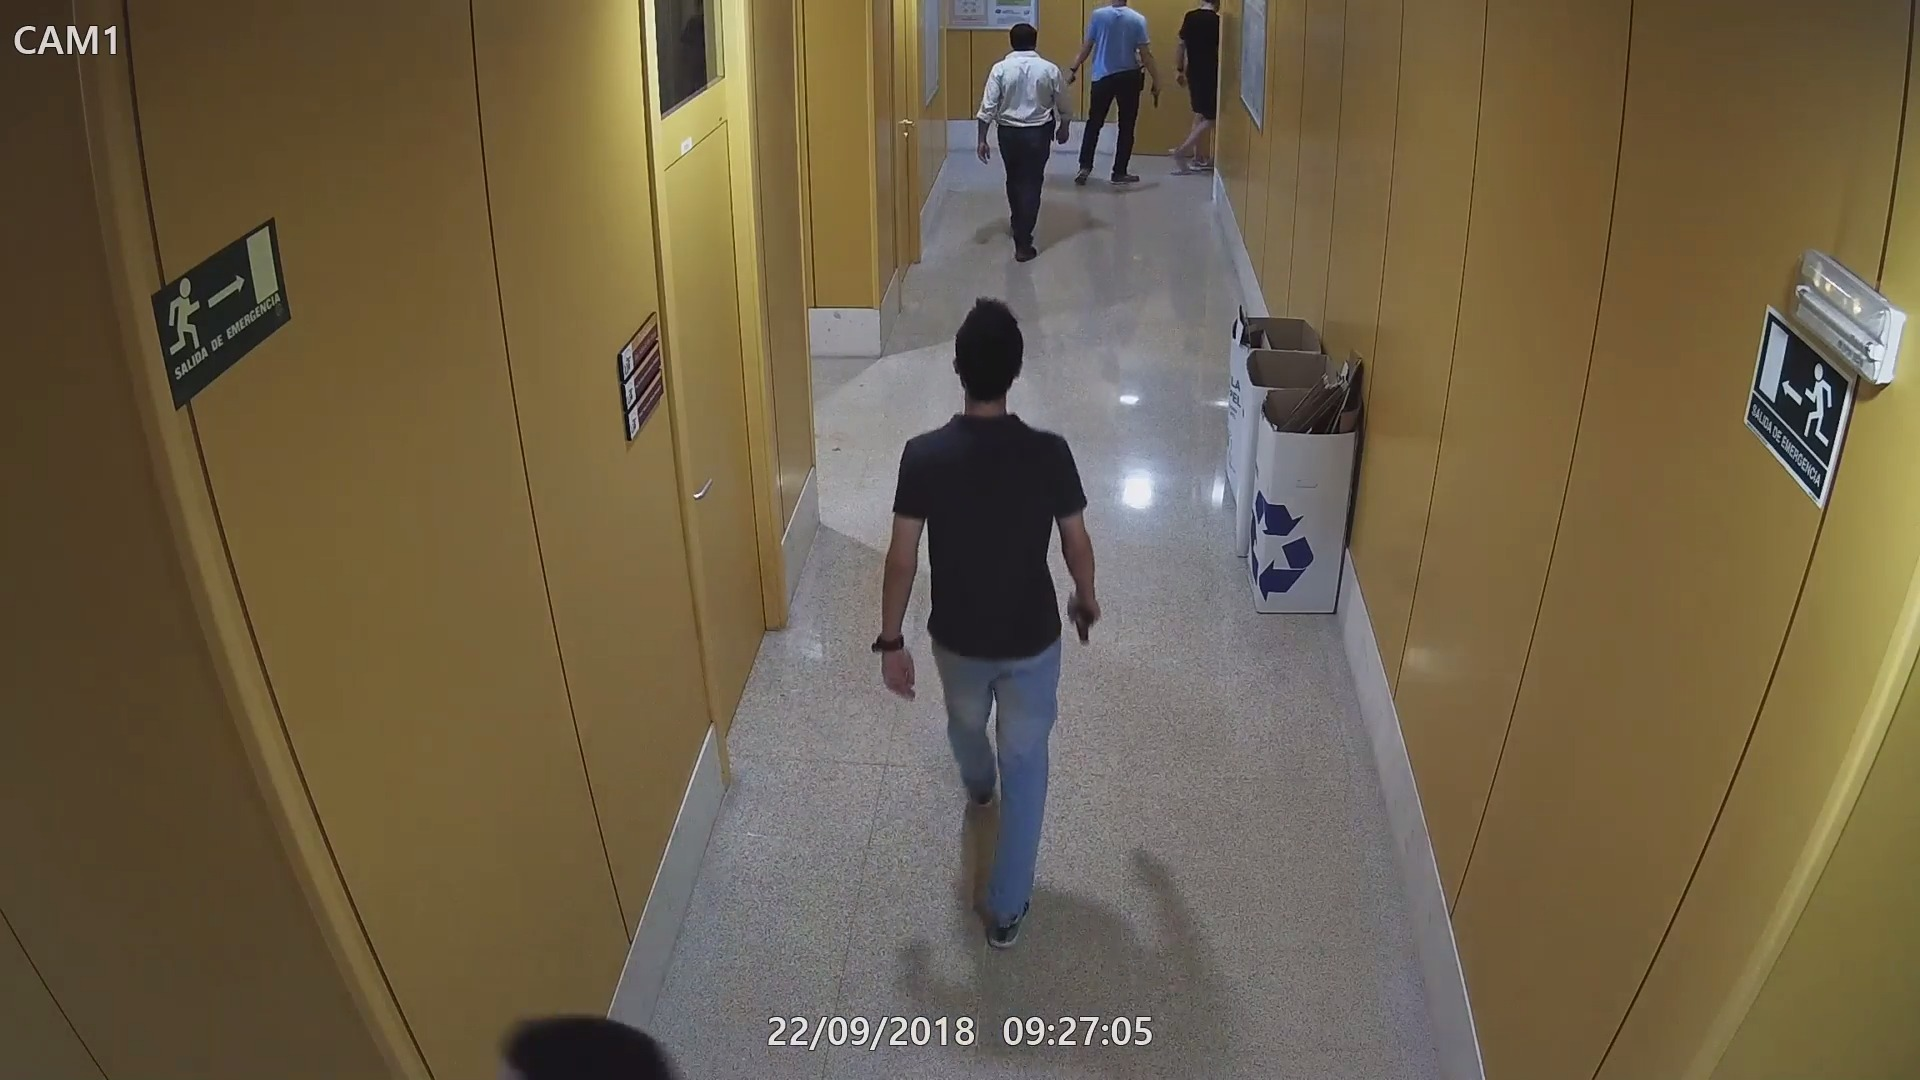Handgun: (1067, 585, 1101, 646), (1145, 80, 1170, 113)
Knife: (1062, 73, 1079, 84)
